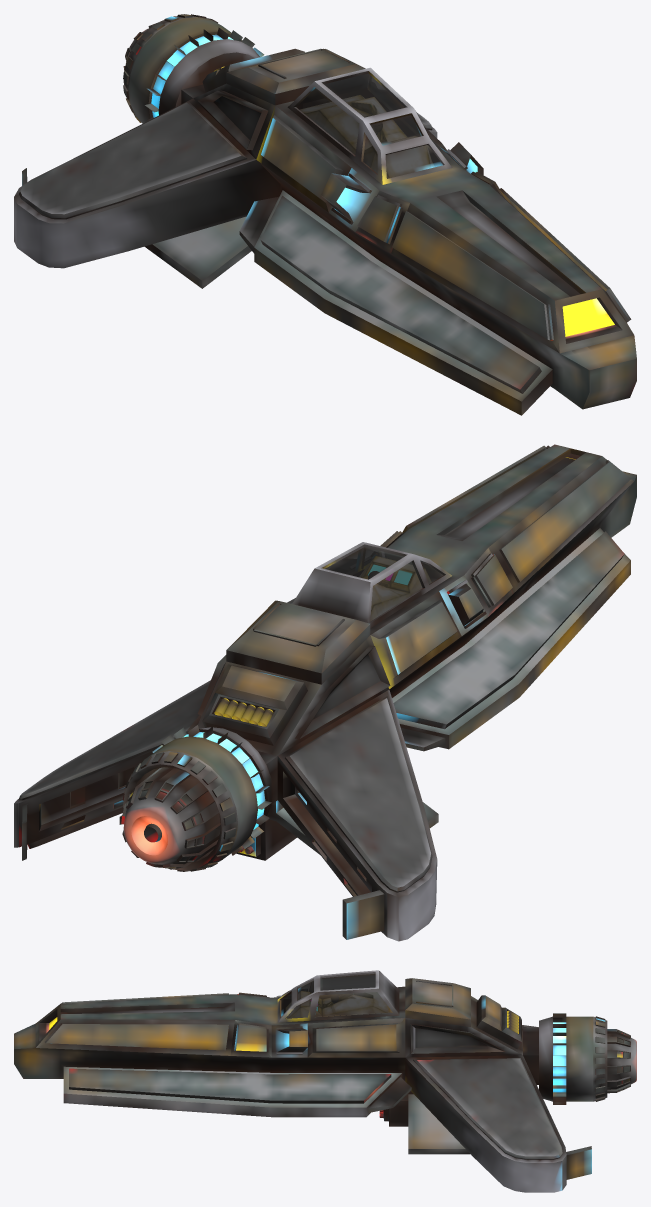
File: rusty_spaceship.glb
3 views of the same model, one above another, from view 1: azimuth 30°, elevation 25°; view 2: azimuth 150°, elevation 25°; view 3: azimuth 270°, elevation 25° (orthographic). The views are drawn at different scales.
Parts seen in each view (by area): view 1: Cube.001, Cube.001_RPanel.001, Cylinder.002, Cube.001_RPanel.003_RExtr.001, Cube.005, Cube.001_RPanel.003_RExtr, Cube.003, Cube.001_RPanel.003; view 2: Cube.001, Cube.001_RPanel.001, Cylinder.002, Cylinder.003, Cube.001_RPanel.003_RExtr.001, Cube.003, Cube.005, Cube.002, Cylinder.004, Cube.001_RPanel.003_RExtr; view 3: Cube.001, Cube.001_RPanel.003, Cylinder.002, Cube.001_RPanel.003_RExtr, Cylinder.003, Cube.005, Cube.003, Cube.002, Cube.001_RPanel.003_RExtr.001.
Boxes of the visible parts, <box> form: Cube.001: <box>14,49,636,415</box>; Cube.001_RPanel.001: <box>193,83,559,352</box>; Cylinder.002: <box>123,14,264,123</box>; Cube.001_RPanel.003_RExtr.001: <box>331,173,553,340</box>; Cube.005: <box>300,95,434,178</box>; Cube.001_RPanel.003_RExtr: <box>447,149,631,322</box>; Cube.003: <box>202,48,304,92</box>; Cube.001_RPanel.003: <box>424,126,633,333</box>; Cube.001: <box>14,444,636,941</box>; Cube.001_RPanel.001: <box>278,456,633,755</box>; Cylinder.002: <box>122,725,272,871</box>; Cylinder.003: <box>121,767,220,868</box>; Cube.001_RPanel.003_RExtr.001: <box>447,460,630,628</box>; Cube.003: <box>202,664,307,745</box>; Cube.005: <box>359,556,431,620</box>; Cube.002: <box>236,819,296,860</box>; Cylinder.004: <box>214,698,273,726</box>; Cube.001_RPanel.003_RExtr: <box>380,445,549,547</box>; Cube.001: <box>14,970,591,1192</box>; Cube.001_RPanel.003: <box>36,1018,522,1057</box>; Cylinder.002: <box>539,1013,607,1104</box>; Cube.001_RPanel.003_RExtr: <box>45,1023,302,1054</box>; Cylinder.003: <box>607,1029,636,1093</box>; Cube.005: <box>286,991,389,1018</box>; Cube.003: <box>476,995,521,1048</box>; Cube.002: <box>379,1094,408,1126</box>; Cube.001_RPanel.003_RExtr.001: <box>53,992,282,1009</box>.
Bounding box in the file's own units: 9.24 × 5.01 × 18.93.
Materials: 2 (2 with a texture image).
